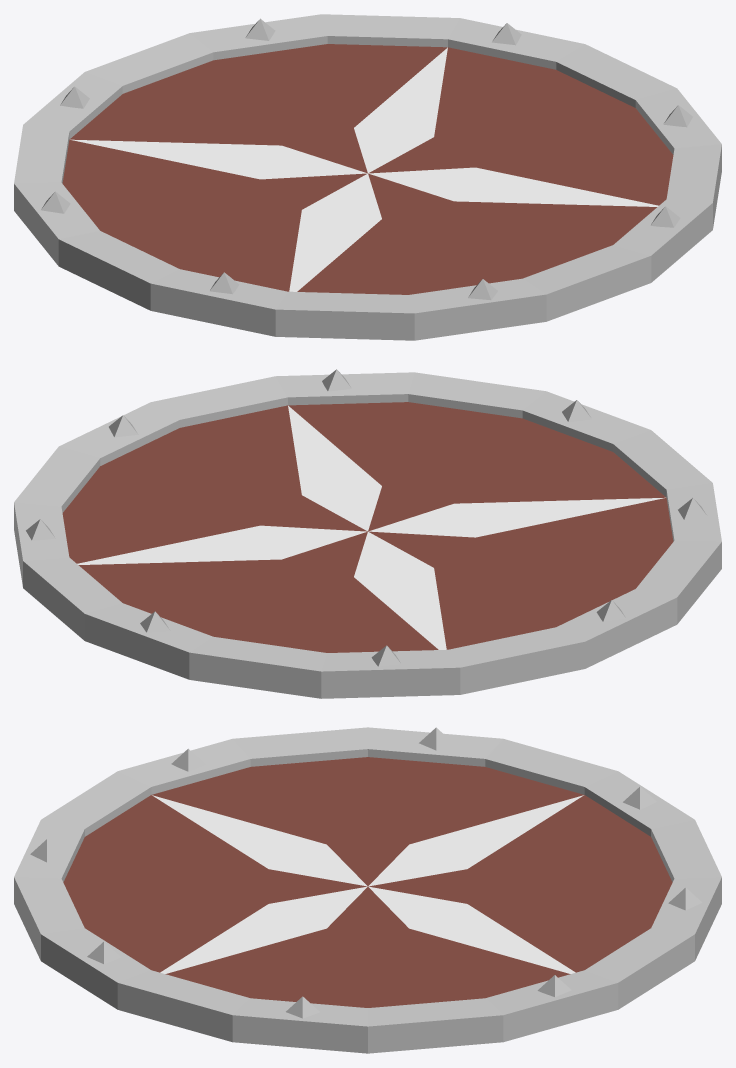
Rendered from Shield_1_c_r.fbx.
3 views of the same model, one above another, from view 1: azimuth 30°, elevation 25°; view 2: azimuth 150°, elevation 25°; view 3: azimuth 270°, elevation 25° (orthographic).
Parts seen in each view (by area): view 1: Circle.072, Circle.095, Circle.097; view 2: Circle.072, Circle.095, Circle.097; view 3: Circle.072, Circle.095, Circle.097.
Boxes of the visible parts, <box> form: Circle.072: <box>62,44,673,294</box>; Circle.095: <box>14,14,721,340</box>; Circle.097: <box>70,47,658,291</box>; Circle.072: <box>62,402,673,652</box>; Circle.095: <box>14,372,721,698</box>; Circle.097: <box>77,405,665,649</box>; Circle.072: <box>63,757,672,1007</box>; Circle.095: <box>14,727,721,1053</box>; Circle.097: <box>152,795,583,973</box>.
Size of the model in its own units: 80.85 by 16.22 by 80.85.
